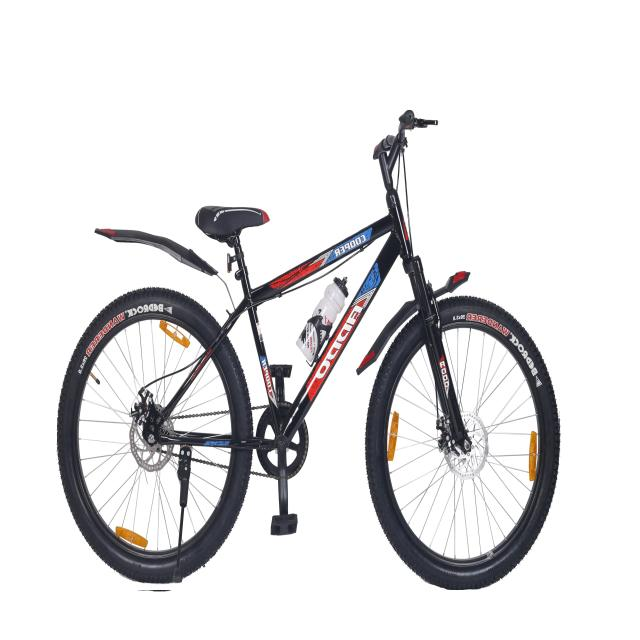bicycle: (58, 110, 559, 590)
